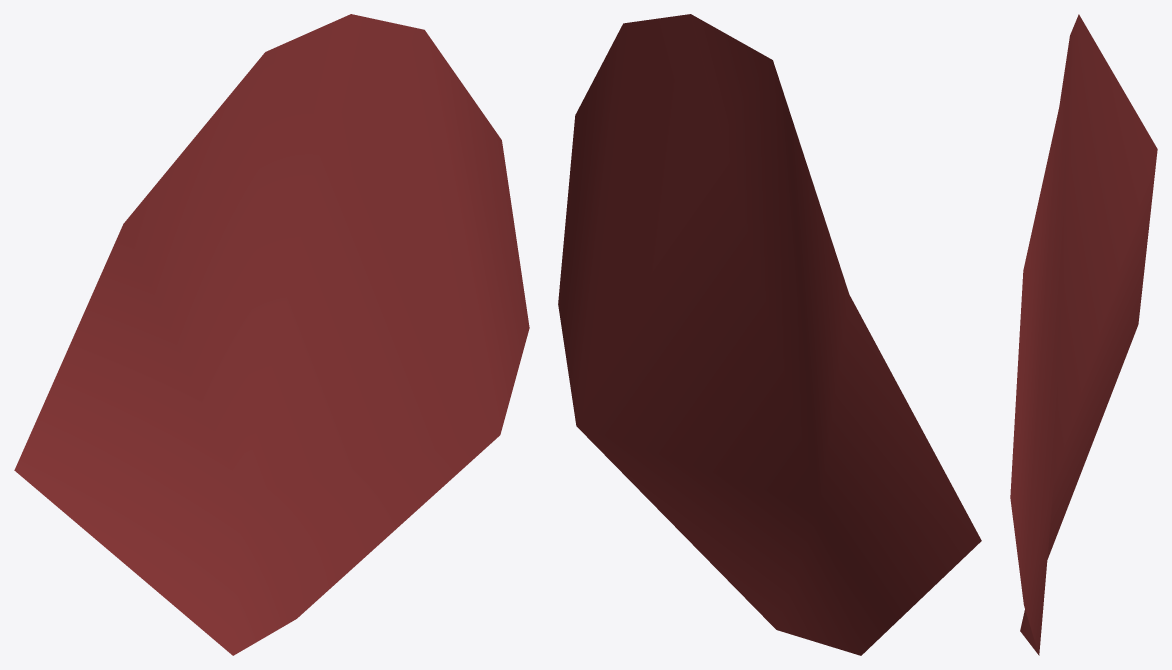
File: flexor-pollicis-longus-or.glb
3 views of the same model, side by side, from view 1: azimuth 30°, elevation 25°; view 2: azimuth 150°, elevation 25°; view 3: azimuth 270°, elevation 25° (orthographic). The views are drawn at different scales.
Visible parts, largest first — view 1: Flexor pollicis longus.or; view 2: Flexor pollicis longus.or; view 3: Flexor pollicis longus.or.
Boxes of the visible parts, <box> form: Flexor pollicis longus.or: <box>14,14,529,655</box>; Flexor pollicis longus.or: <box>558,14,981,655</box>; Flexor pollicis longus.or: <box>1010,14,1157,655</box>.
Size of the model in its own units: 0.004 by 0.00493 by 0.000978.
